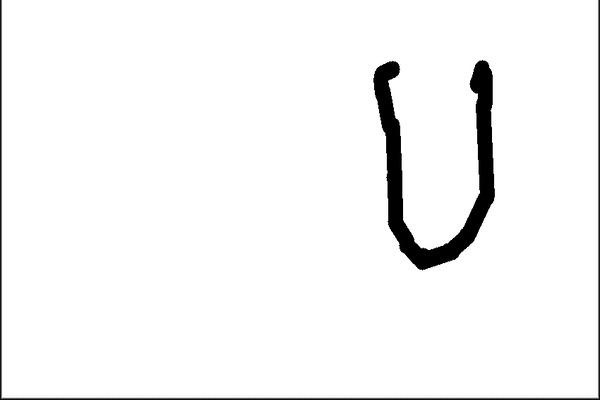U: (365, 52, 496, 272)
